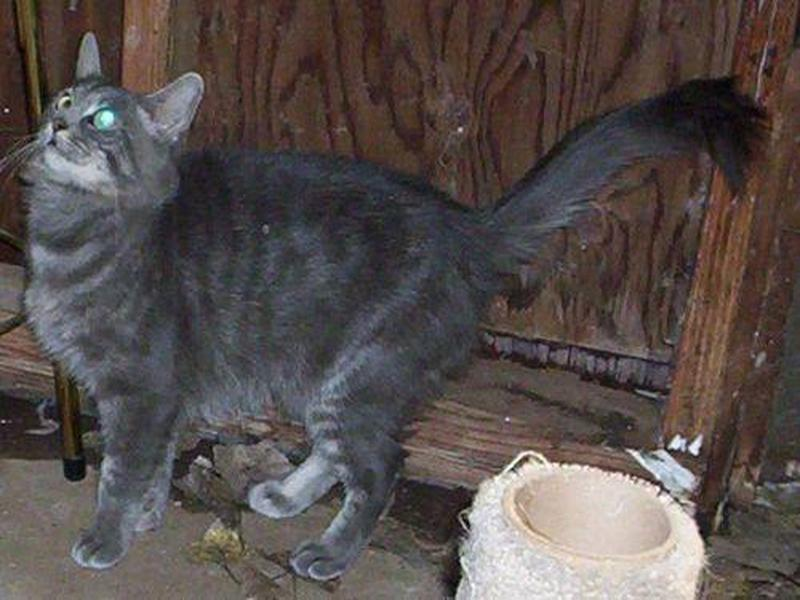cat: (20, 27, 408, 581)
